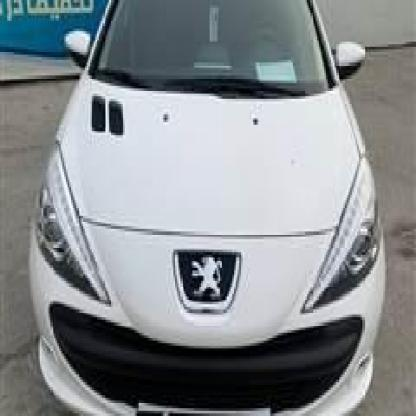Car: (24, 0, 385, 416)
